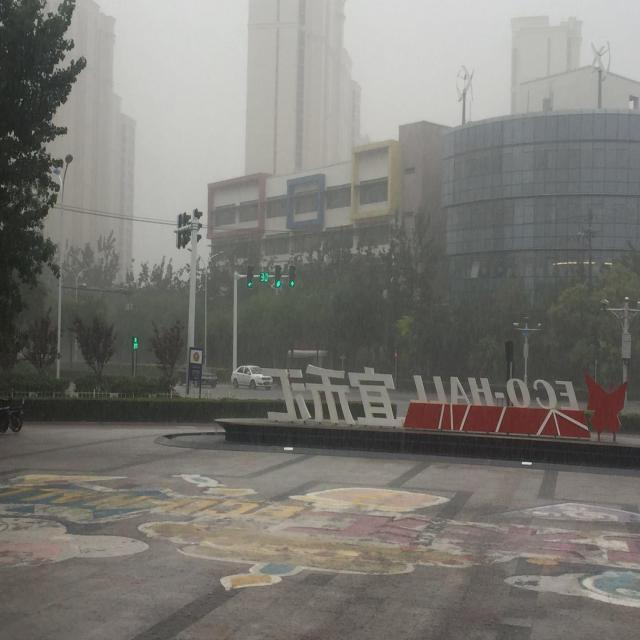car: (175, 361, 217, 387), (229, 364, 272, 387)
